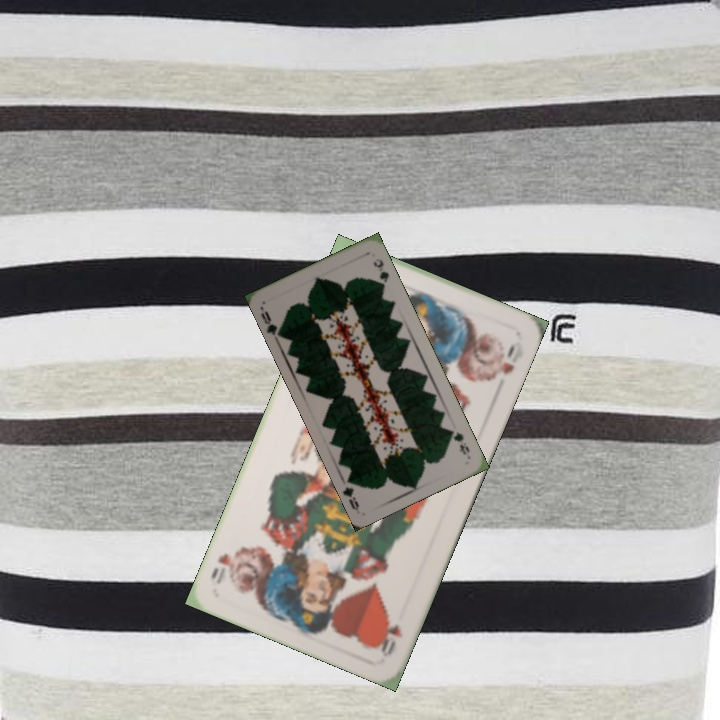G9: (257, 306, 284, 340), (445, 425, 472, 458)
HO: (374, 620, 405, 659)
